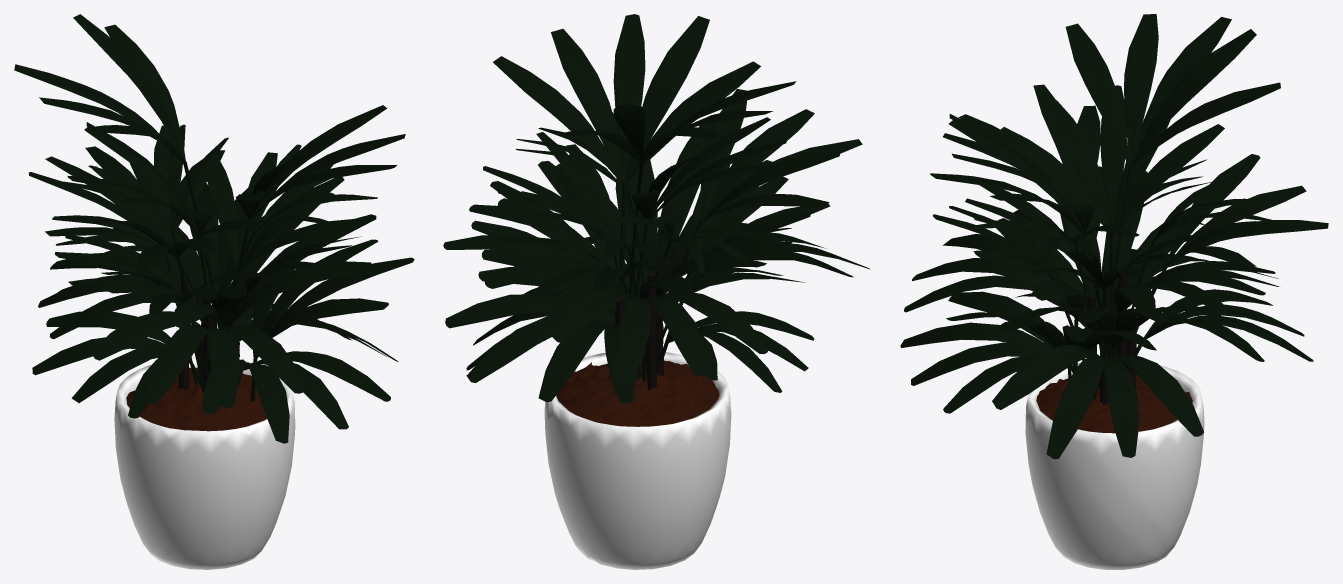
The model's file is smaller_plant.obj.
3 renders of one model, left to right at view 1: azimuth 30°, elevation 25°; view 2: azimuth 150°, elevation 25°; view 3: azimuth 270°, elevation 25°, orthographic. The views are drawn at different scales.
Visible parts, largest first — view 1: Object_5_Object_3; view 2: Object_5_Object_3; view 3: Object_5_Object_3.
Part boxes in pixels (x1,y1,x2,y2): Object_5_Object_3: (14, 14, 414, 569); Object_5_Object_3: (443, 14, 870, 569); Object_5_Object_3: (900, 14, 1328, 569).
Size of the model in its own units: 2.29 by 3.26 by 2.59.
